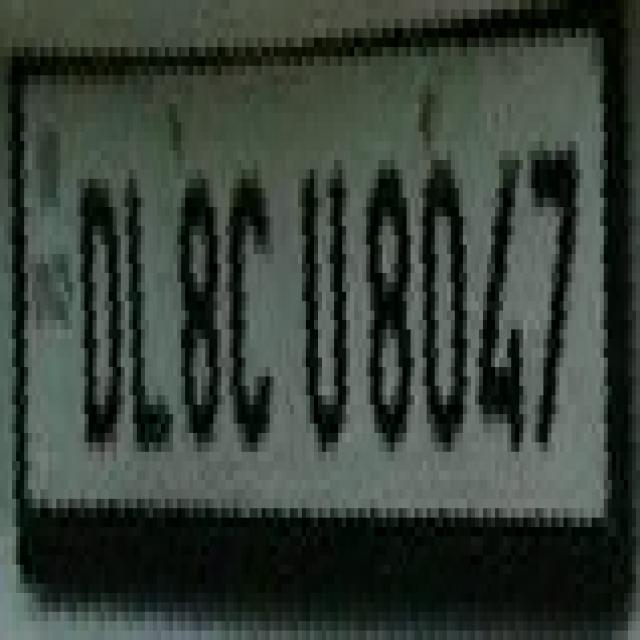license_plate: (4, 57, 604, 564)
